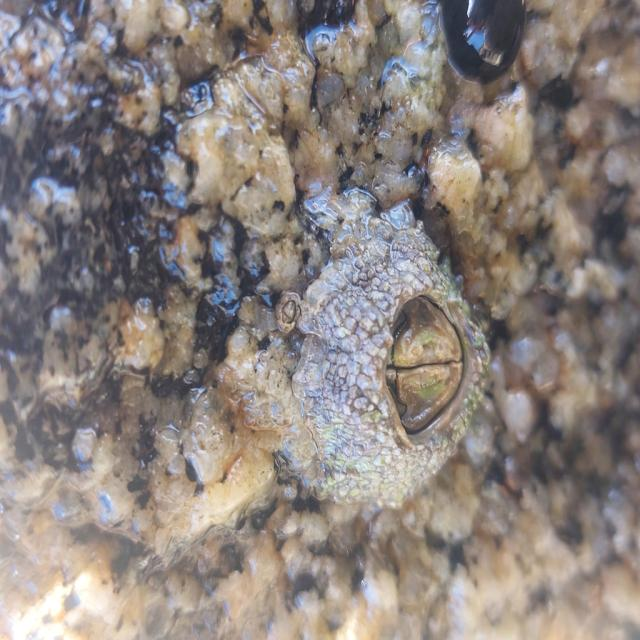barnacles: (268, 188, 496, 520)
